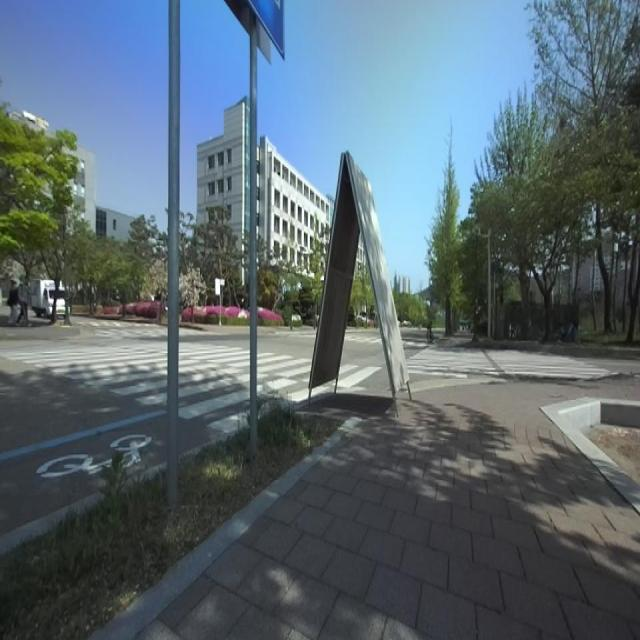sidewalk: (93, 377, 640, 639)
